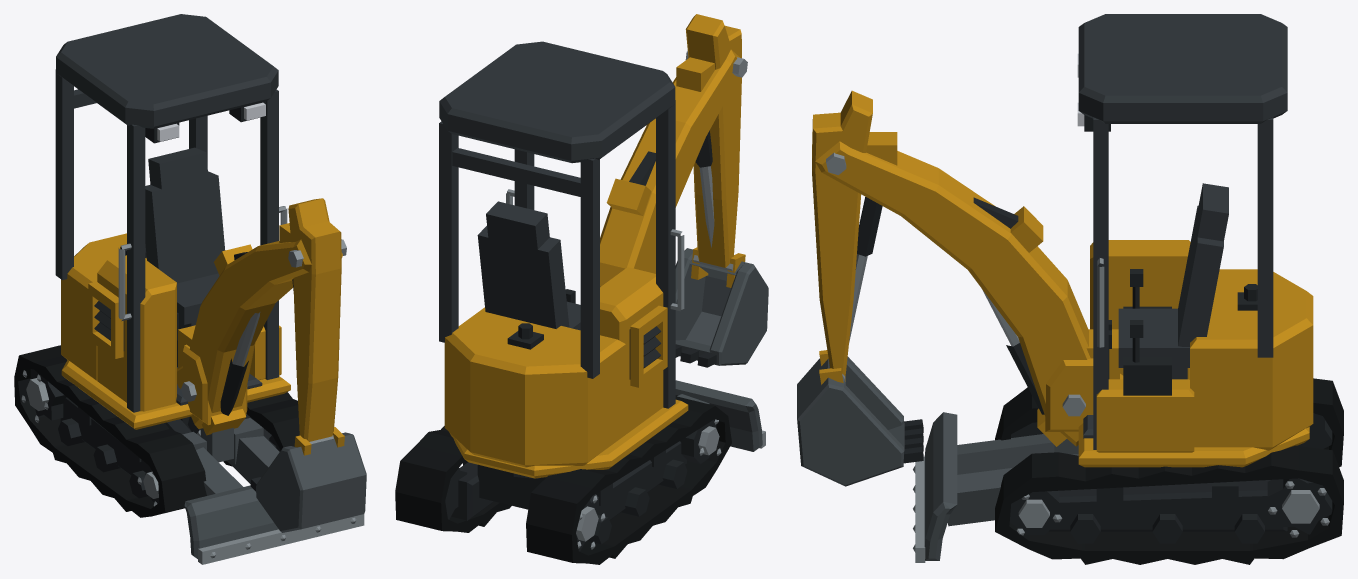
The model's file is mini-excavator-cbe1ae.glb.
3 views of the same model, side by side, from view 1: azimuth 30°, elevation 25°; view 2: azimuth 150°, elevation 25°; view 3: azimuth 270°, elevation 25° (orthographic). The views are drawn at different scales.
Visible parts, largest first — view 1: upper-structure, undercarriage, boom-member, blade-weldment, dipper-member, bucket-shell, swing-casting, sprocket-r-mesh; view 2: upper-structure, undercarriage, boom-member, dipper-member, bucket-shell, blade-weldment, idler-r-mesh, sprocket-r-mesh, sprocket-l-mesh; view 3: upper-structure, undercarriage, boom-member, dipper-member, bucket-shell, blade-weldment, swing-casting, sprocket-l-mesh, idler-l-mesh, sprocket-r-mesh.
Part boxes in pixels (x1,y1,x2,y2): upper-structure: [55, 14, 290, 429]; undercarriage: [14, 345, 299, 517]; boom-member: [177, 239, 346, 435]; blade-weldment: [182, 418, 364, 564]; dipper-member: [279, 198, 341, 443]; bucket-shell: [250, 427, 366, 532]; swing-casting: [181, 344, 247, 425]; sprocket-r-mesh: [21, 369, 66, 422]; upper-structure: [439, 41, 688, 478]; undercarriage: [395, 396, 731, 564]; boom-member: [600, 49, 747, 286]; dipper-member: [676, 14, 741, 271]; bucket-shell: [675, 247, 768, 367]; blade-weldment: [675, 380, 765, 451]; idler-r-mesh: [680, 419, 721, 464]; sprocket-r-mesh: [576, 495, 605, 551]; sprocket-l-mesh: [445, 468, 467, 519]; upper-structure: [1077, 14, 1313, 467]; undercarriage: [995, 378, 1343, 564]; boom-member: [815, 141, 1123, 446]; dipper-member: [812, 90, 897, 381]; bucket-shell: [797, 350, 923, 486]; blade-weldment: [913, 412, 1078, 562]; swing-casting: [1045, 358, 1093, 431]; sprocket-l-mesh: [1267, 478, 1332, 537]; idler-l-mesh: [1009, 490, 1062, 535]; sprocket-r-mesh: [1297, 413, 1332, 448].
Bounding box in the file's own units: 1.01 × 2.3 × 2.46.
